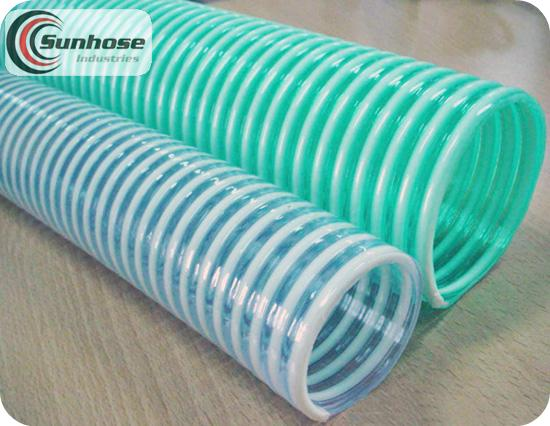Nonrec_Tangler: (5, 1, 520, 384)
